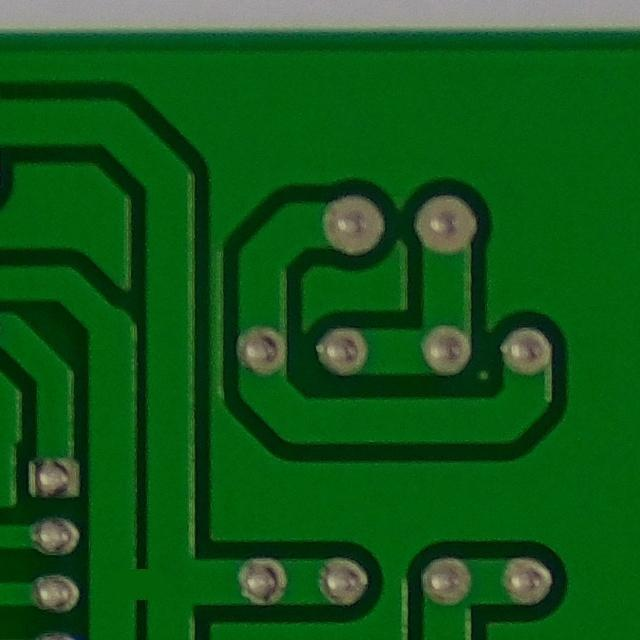short: (86, 542, 202, 637)
